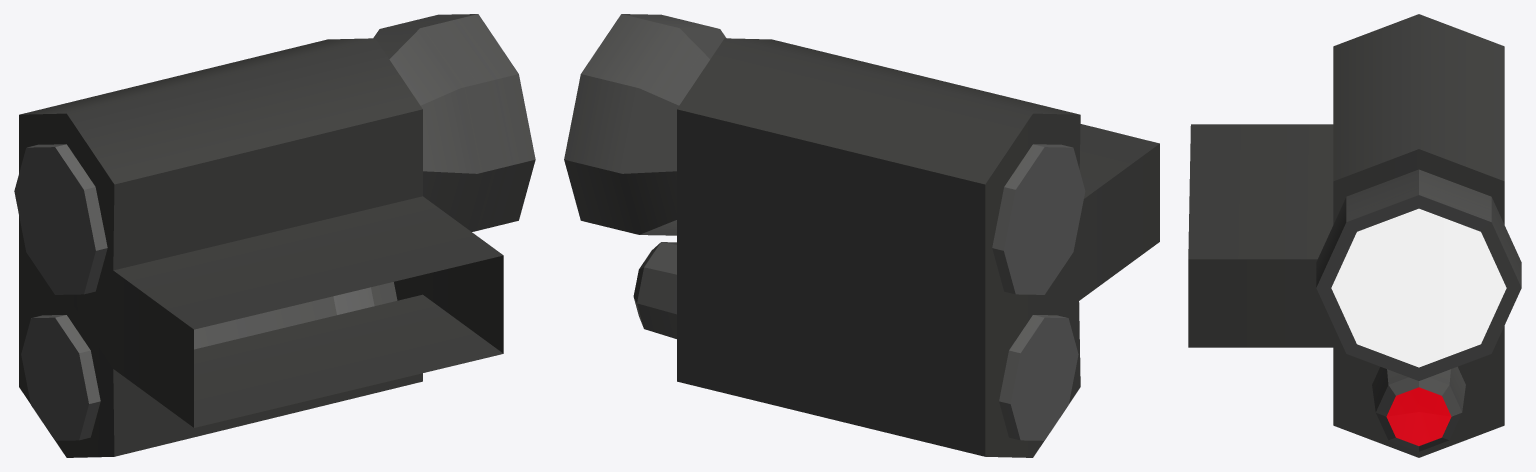
Rendered from MediumLaserCombo_mesh.fbx.
3 renders of one model, left to right at view 1: azimuth 30°, elevation 25°; view 2: azimuth 150°, elevation 25°; view 3: azimuth 270°, elevation 25°, orthographic. The views are drawn at different scales.
Parts seen in each view (by area): view 1: MediumLaserCombo_mesh; view 2: MediumLaserCombo_mesh; view 3: MediumLaserCombo_mesh.
Boxes of the visible parts, bbox=[...] form: MediumLaserCombo_mesh: bbox=[14, 14, 535, 457]; MediumLaserCombo_mesh: bbox=[564, 14, 1159, 457]; MediumLaserCombo_mesh: bbox=[1188, 14, 1521, 457].
Size of the model in its own units: 5.51 by 4.28 by 4.19.
2 materials, 1 textured.
